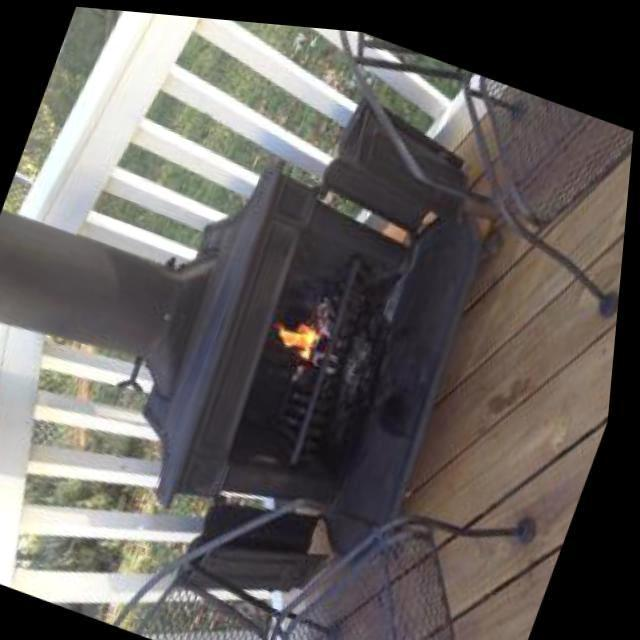fire: (254, 242, 366, 390)
